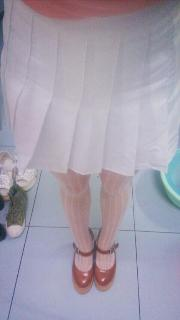skirt: (0, 0, 180, 176)
